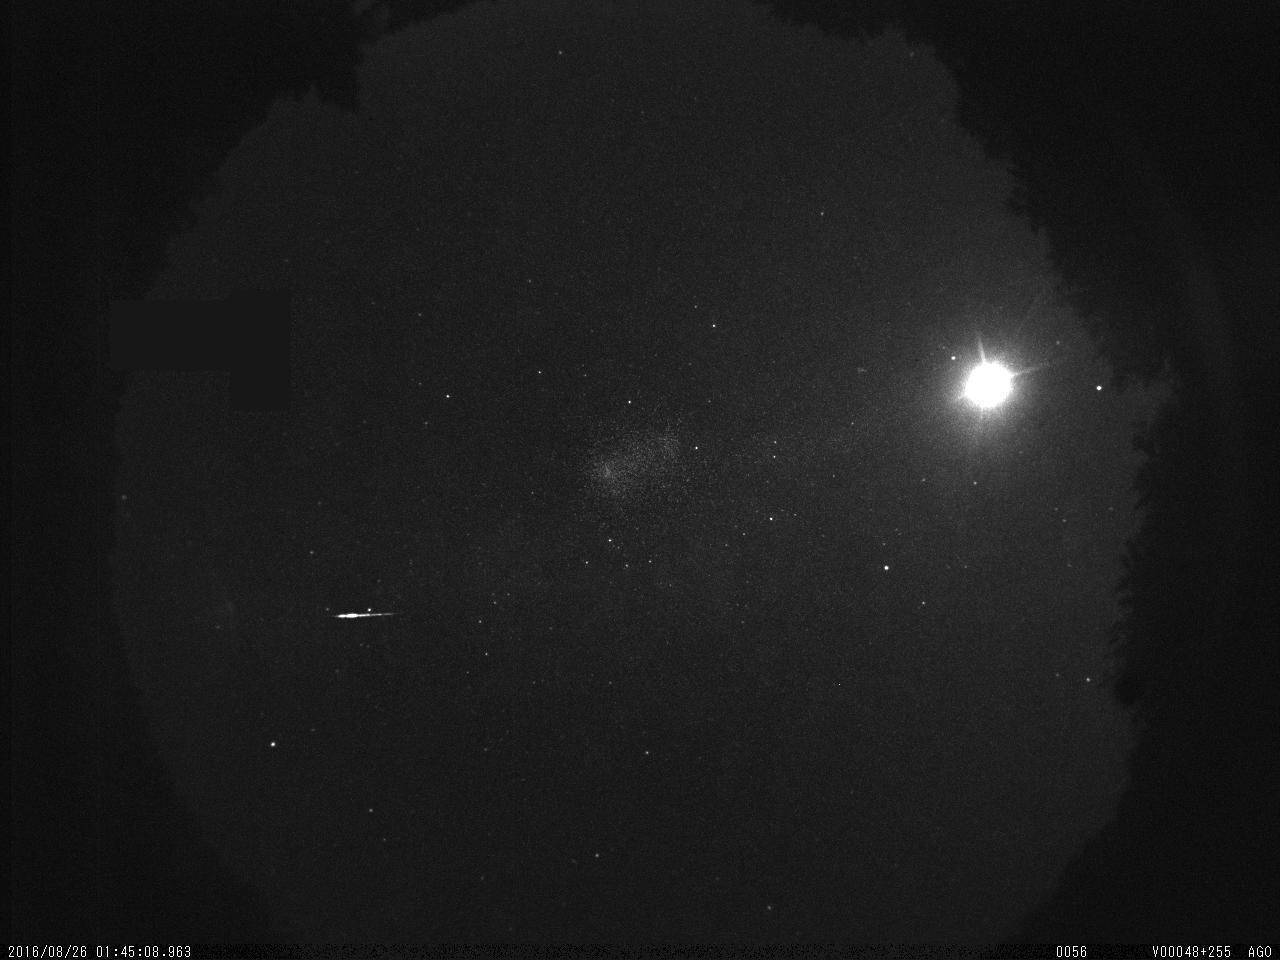Meteor: (327, 606, 400, 622)
